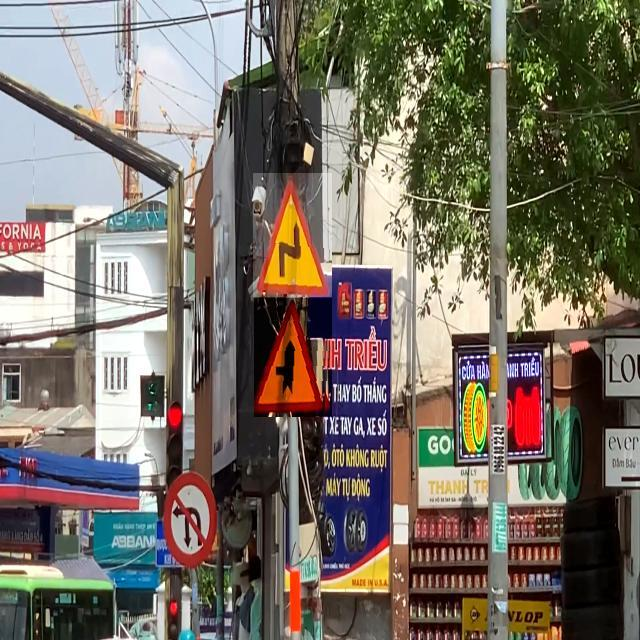W-202b: (253, 173, 332, 297)
W-207c: (255, 298, 333, 417)
